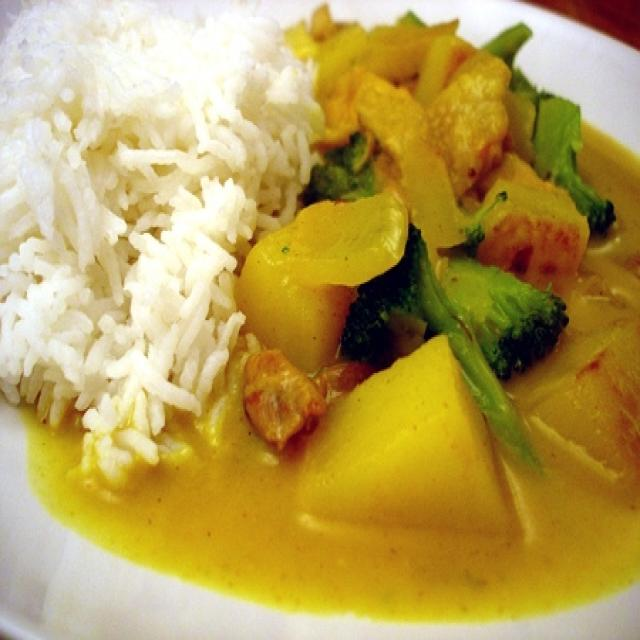米饭主食: (17, 10, 627, 621)
